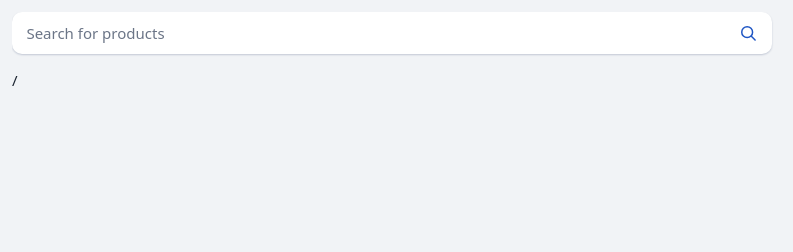
Scenario: SearchBox suggestions › asks for nothing until two characters are typed, and then only after a pause
The width and height of the screenshot is (793, 252).
Type "p" into the dropdown named "Search products" at (368, 33), box [12, 12, 724, 54]
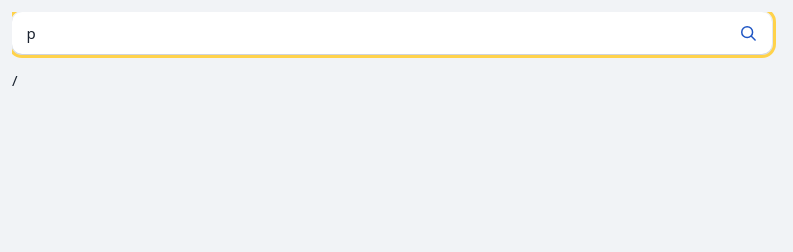
Type "h" into the dropdown named "Search products" at (368, 33), box [12, 12, 724, 54]
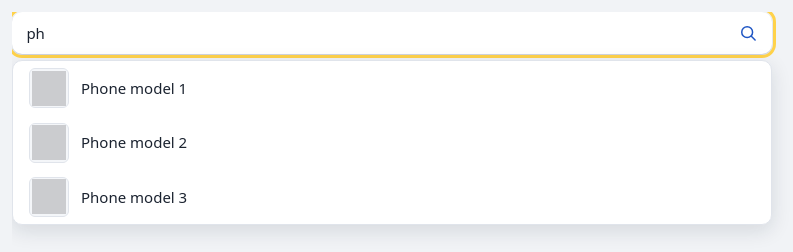
Expected: the list named "Suggested products" is shown, [29, 68, 187, 217]
